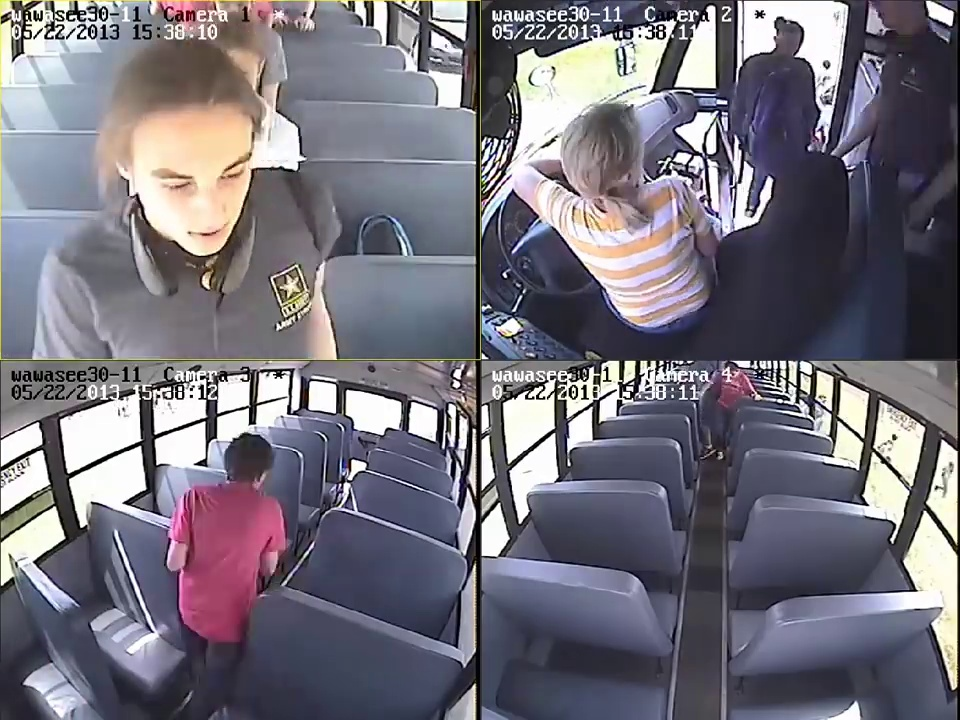face: (138, 126, 248, 258)
